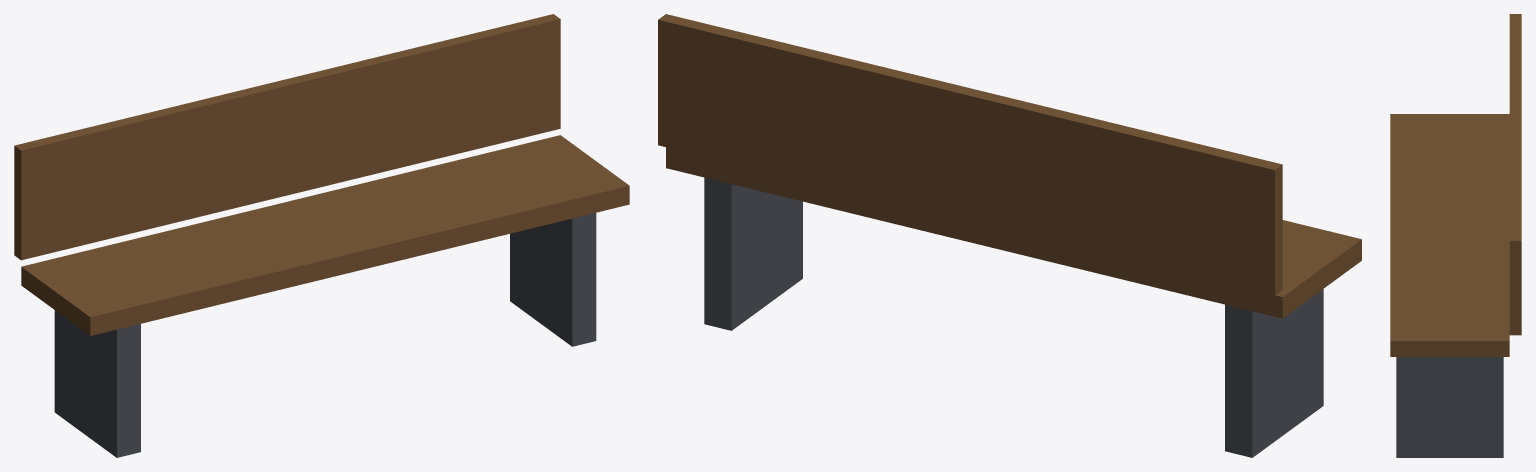
Rendered from stop_bench.glb.
The picture shows the model from 3 angles, left to right: view 1: azimuth 30°, elevation 25°; view 2: azimuth 150°, elevation 25°; view 3: azimuth 270°, elevation 25°; orthographic projection. The views are drawn at different scales.
Parts seen in each view (by area): view 1: placeholder; view 2: placeholder; view 3: placeholder.
Boxes of the visible parts, box(x1,y1,x2,y2) form: placeholder: box(14, 14, 629, 457); placeholder: box(658, 14, 1361, 457); placeholder: box(1390, 14, 1521, 457).
Size of the model in its own units: 1.8 by 0.85 by 0.44.
